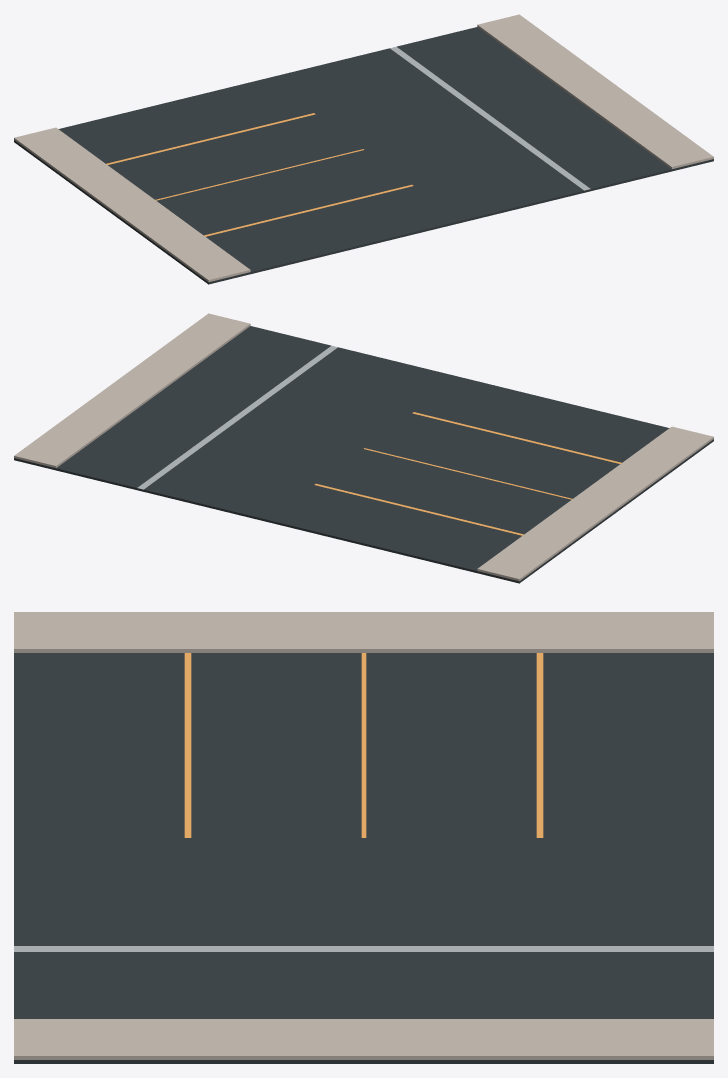
Rendered from SM_road_012.glb.
3 renders of one model, top to bottom at view 1: azimuth 30°, elevation 25°; view 2: azimuth 150°, elevation 25°; view 3: azimuth 270°, elevation 25°, orthographic. The views are drawn at different scales.
Visible parts, largest first — view 1: SM_road_012; view 2: SM_road_012; view 3: SM_road_012.
Boxes of the visible parts, left/top/right/bottom form: SM_road_012: left=14, top=14, right=713, bottom=284; SM_road_012: left=14, top=313, right=713, bottom=583; SM_road_012: left=14, top=612, right=713, bottom=1063.
Size of the model in its own units: 12 by 0.1 by 8.
Materials: 1 (1 with a texture image).
